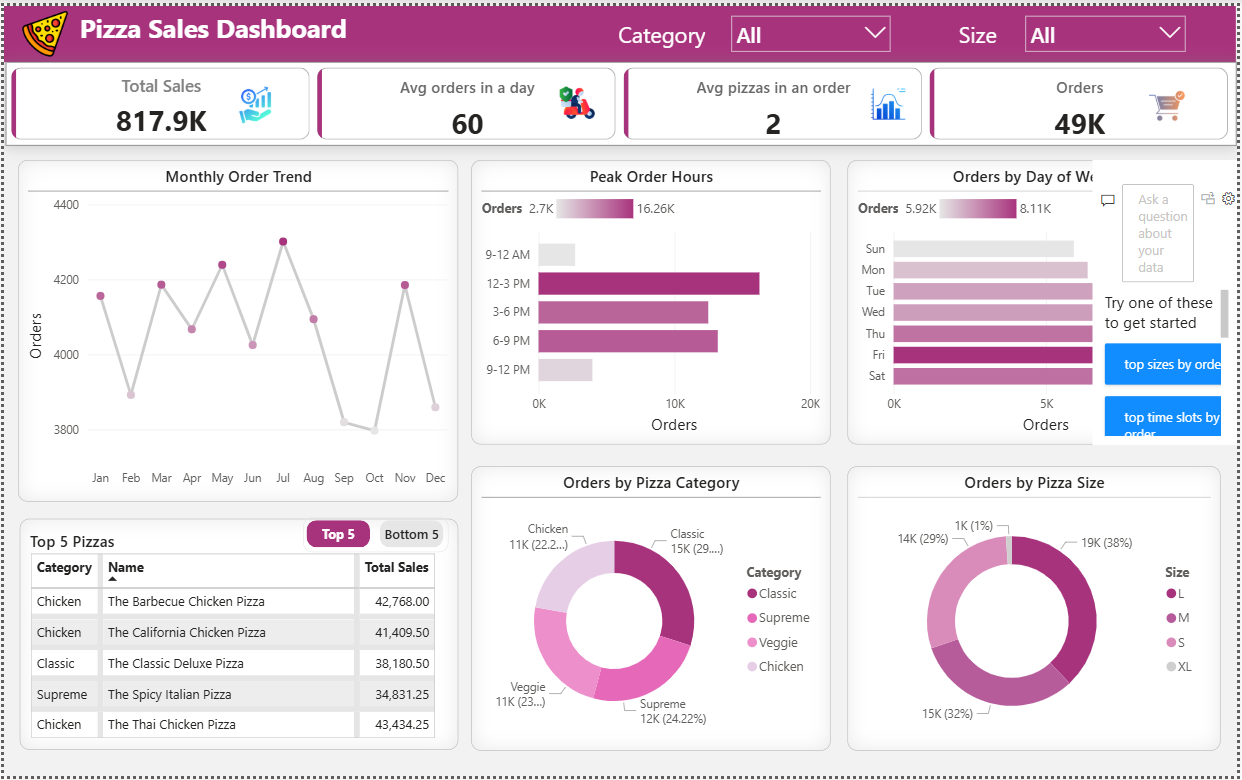

What the dashboard file says about the page in this screenshot:
{"tool":"powerbi","page":{"name":"Page 1","canvas":[1280,800],"ordinal":0},"visuals":[{"type":"textbox","box":[0,0,1279.6,58.2],"z":0},{"type":"slicer","fields":{"Values":["Pizza Types.Category"]},"box":[744.8,0,185.7,57.4],"z":0,"group":"g2"},{"type":"shape","box":[619.3,0,127.1,57.4],"z":1000,"group":"g2"},{"type":"shape","box":[972.2,0,77.9,57.4],"z":1000,"group":"g1"},{"type":"slicer","fields":{"Values":["Pizzas.Size"]},"box":[1049.9,0,186.6,57.4],"z":1000},{"type":"barChart","title":"Peak Order Hours","fields":{"Category":["Orders.Time Slot"],"Y":["All measures.Orders_1"]},"box":[486,159.9,373.2,295.3],"z":2000},{"type":"barChart","title":"Orders by Day of Week","fields":{"Category":["Date Table.Day"],"Y":["All measures.Orders_1"]},"box":[875.6,159.9,385.5,295.3],"z":3000},{"type":"lineChart","title":"Monthly Order Trend","fields":{"Category":["Date Table.Month"],"Y":["All measures.Orders_1"]},"box":[14.4,159.9,457.3,354.7],"z":4000},{"type":"donutChart","title":"Orders by Pizza Category","fields":{"Y":["All measures.Orders_1"],"Category":["Pizza Types.Category"]},"box":[486,477.8,373.2,295.3],"z":5000},{"type":"donutChart","title":"Orders by Pizza Size","fields":{"Category":["Pizzas.Size"],"Y":["All measures.Orders"]},"box":[875.6,477.8,387.6,295.3],"z":6000},{"type":"tableEx","title":"Top 5 Pizzas","fields":{"Values":["Pizza Types.Category","Pizza Types.Name","All measures.Total Sales"]},"box":[16.4,533.1,455.2,239.9],"z":7000},{"type":"bookmarkNavigator","box":[310.8,530.7,150.9,36.4],"z":9000},{"type":"cardVisual","fields":{"Data":["All measures.Total Sales","All measures.Avg orders in a day","All measures.Avg pizzas in an order","All measures.Orders"]},"box":[2.2,58.1,1278.2,87],"z":10000},{"type":"group","id":"g1","title":"Category Slicer","box":[972.2,0,77.9,57.4],"z":11000},{"type":"group","id":"g2","title":"Category Slicer","box":[619.3,0,311.7,57.4],"z":12000},{"type":"image","box":[2.1,0,82,57.4],"z":13000},{"type":"image","box":[227.6,77.9,67.7,49.2],"z":14000},{"type":"qnaVisual","box":[1130,159.9,150,295.3],"z":14001},{"type":"image","box":[570.1,73.8,49.2,53.3],"z":14002},{"type":"image","box":[1177,80,59.5,47.2],"z":14003},{"type":"image","box":[889.9,77.9,55.4,47.2],"z":14004}]}

Visuals, with their boxes in screenshot pixels (x1, y1, x2, y2), scaled from the page's 1280x800 canvas onto the 1242x780 screenshot:
textbox: 0:0:1241:57
slicer - Pizza Types.Category: 723:0:903:56
shape: 601:0:724:56
shape: 943:0:1019:56
slicer - Pizzas.Size: 1019:0:1200:56
"Peak Order Hours" barChart: 472:156:834:444
"Orders by Day of Week" barChart: 850:156:1224:444
"Monthly Order Trend" lineChart: 14:156:458:502
"Orders by Pizza Category" donutChart: 472:466:834:754
"Orders by Pizza Size" donutChart: 850:466:1226:754
"Top 5 Pizzas" tableEx: 16:520:458:754
bookmarkNavigator: 302:517:448:553
cardVisual - All measures.Total Sales x All measures.Avg orders in a day: 2:57:1241:141
"Category Slicer" group: 943:0:1019:56
"Category Slicer" group: 601:0:903:56
image: 2:0:82:56
image: 221:76:287:124
qnaVisual: 1096:156:1241:444
image: 553:72:601:124
image: 1142:78:1200:124
image: 863:76:917:122
